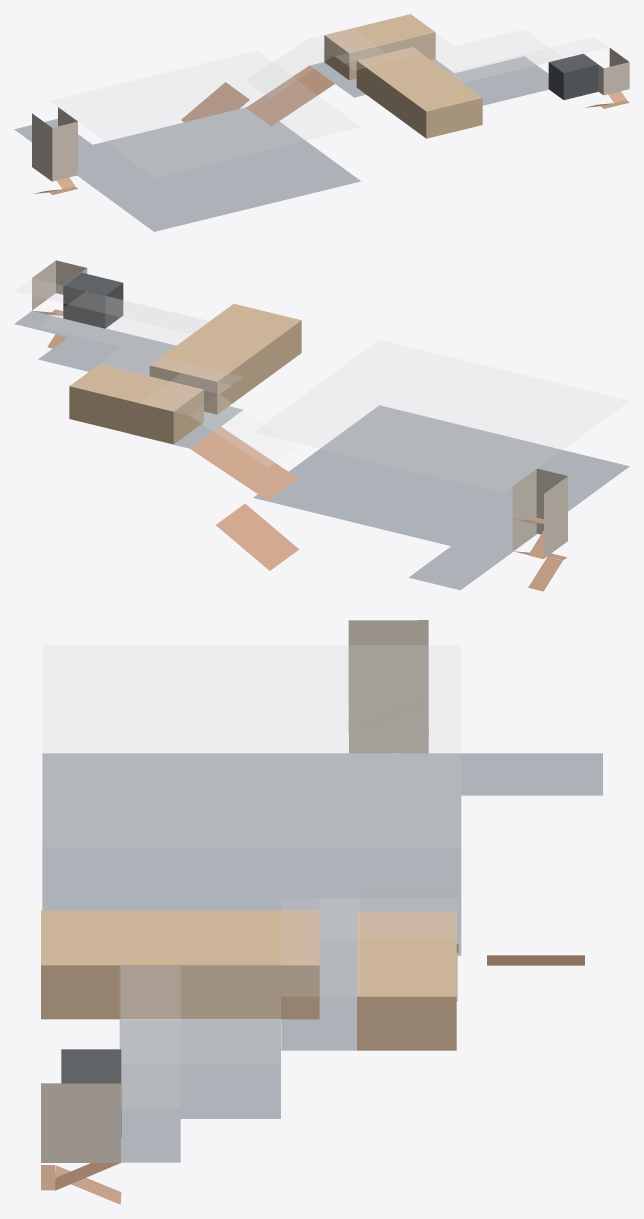
3 views of the same model, one above another, from view 1: azimuth 30°, elevation 25°; view 2: azimuth 150°, elevation 25°; view 3: azimuth 270°, elevation 25° (orthographic). The views are drawn at different scales.
Parts seen in each view (by area): view 1: Cube.012, Cube.020, Cube.017, Cube.022, 立方體.172, Cube, 立方體.174, 立方體.173, 立方體.183, 平面.001, 立方體.170, 立方體.003 (+8 smaller); view 2: Cube.012, Cube.020, Cube.022, Cube, 立方體.172, 立方體.174, Cube.017, 立方體.173, 立方體.183, 平面.001, 立方體.170, 立方體.003 (+9 smaller); view 3: Cube.012, Cube.020, Cube, 立方體.174, 立方體.172, Cube.022, Cube.017, 平面.001, 立方體.003, 立方體.180, 立方體.177, Cube.021 (+6 smaller).
Part boxes in pixels (bbox=[...]): Cube.012: bbox=[50, 51, 359, 176]; Cube.020: bbox=[77, 107, 360, 231]; Cube.017: bbox=[396, 76, 482, 138]; Cube.022: bbox=[324, 14, 435, 80]; 立方體.172: bbox=[424, 29, 562, 82]; Cube: bbox=[356, 47, 451, 116]; 立方體.174: bbox=[451, 56, 548, 105]; 立方體.173: bbox=[246, 65, 334, 126]; 立方體.183: bbox=[247, 38, 332, 97]; 平面.001: bbox=[449, 37, 607, 82]; 立方體.170: bbox=[548, 54, 598, 99]; 立方體.003: bbox=[335, 32, 452, 69]; Cube.012: bbox=[254, 340, 628, 492]; Cube.020: bbox=[253, 405, 629, 558]; Cube.022: bbox=[69, 364, 203, 444]; Cube: bbox=[149, 330, 265, 414]; 立方體.172: bbox=[39, 292, 208, 355]; 立方體.174: bbox=[38, 324, 175, 376]; Cube.017: bbox=[198, 304, 301, 378]; 立方體.173: bbox=[190, 426, 297, 500]; 立方體.183: bbox=[191, 395, 295, 466]; 平面.001: bbox=[15, 278, 207, 333]; 立方體.170: bbox=[63, 272, 123, 328]; 立方體.003: bbox=[99, 348, 242, 393]; Cube.012: bbox=[43, 645, 460, 846]; Cube.020: bbox=[42, 753, 461, 955]; Cube: bbox=[160, 910, 319, 1019]; 立方體.174: bbox=[119, 1019, 280, 1118]; 立方體.172: bbox=[120, 966, 280, 1063]; Cube.022: bbox=[357, 912, 456, 1050]; Cube.017: bbox=[41, 910, 160, 1019]; 平面.001: bbox=[121, 966, 179, 1107]; 立方體.003: bbox=[282, 899, 359, 995]; 立方體.180: bbox=[348, 620, 428, 699]; 立方體.177: bbox=[41, 1083, 120, 1162]; Cube.021: bbox=[453, 753, 602, 795].
Bounding box in the file's own units: 58.07 × 9 × 28.19.
